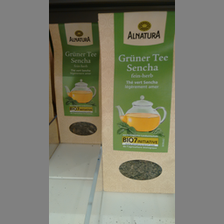tea: (97, 11, 174, 194), (49, 22, 100, 144)
